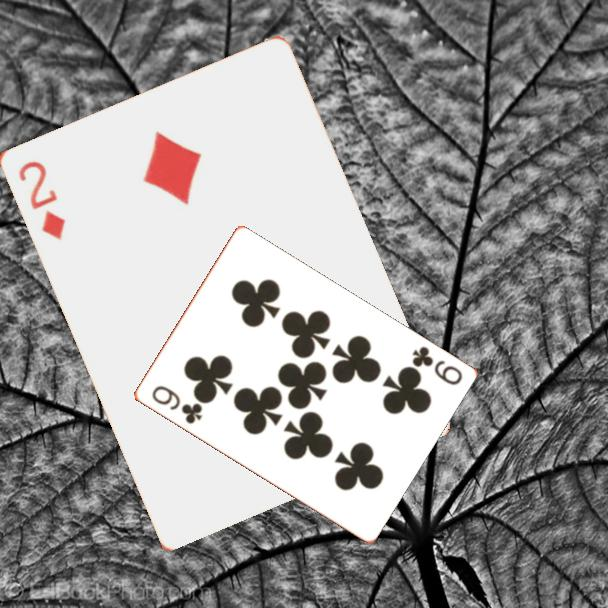c09: (148, 382, 205, 427), (408, 343, 465, 388)
d02: (14, 157, 68, 242)
